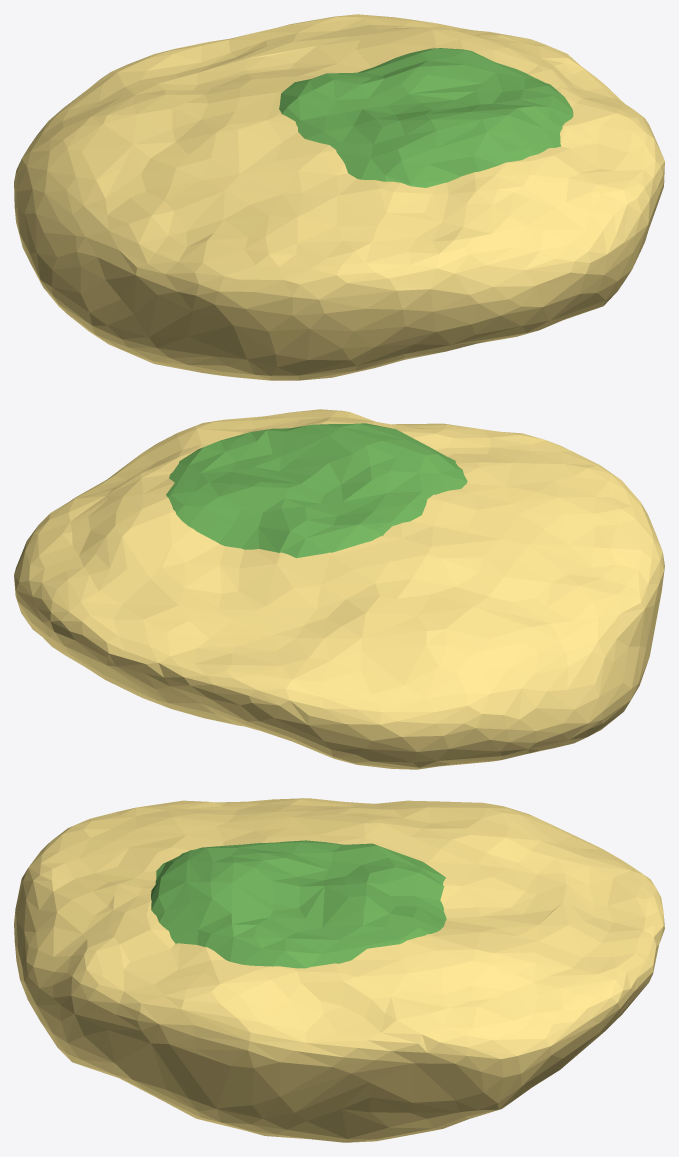
File: Island1.fbx
3 views of the same model, one above another, from view 1: azimuth 30°, elevation 25°; view 2: azimuth 150°, elevation 25°; view 3: azimuth 270°, elevation 25° (orthographic). The views are drawn at different scales.
Visible parts, largest first — view 1: Island; view 2: Island; view 3: Island.
Part boxes in pixels (x1=…): Island: x1=14, y1=14, x2=664, y2=380; Island: x1=14, y1=409, x2=664, y2=769; Island: x1=14, y1=798, x2=664, y2=1142.
Bounding box in the file's own units: 1850 × 704 × 1874.
